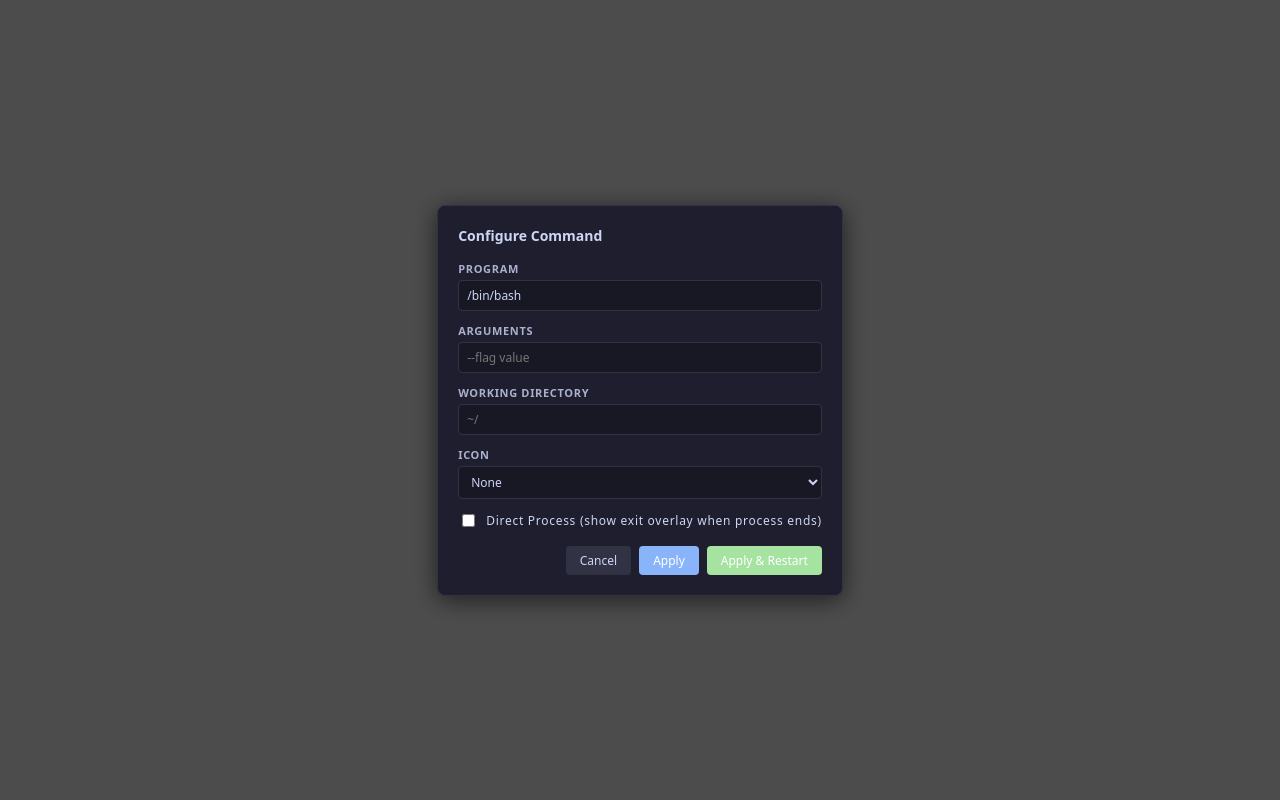
ConfigureCommandDialog's Apply & Restart (#815) › says why the restart failed, in the hub's words
Click the button with class "btn-accent" at (764,560), box [707,546,822,574]
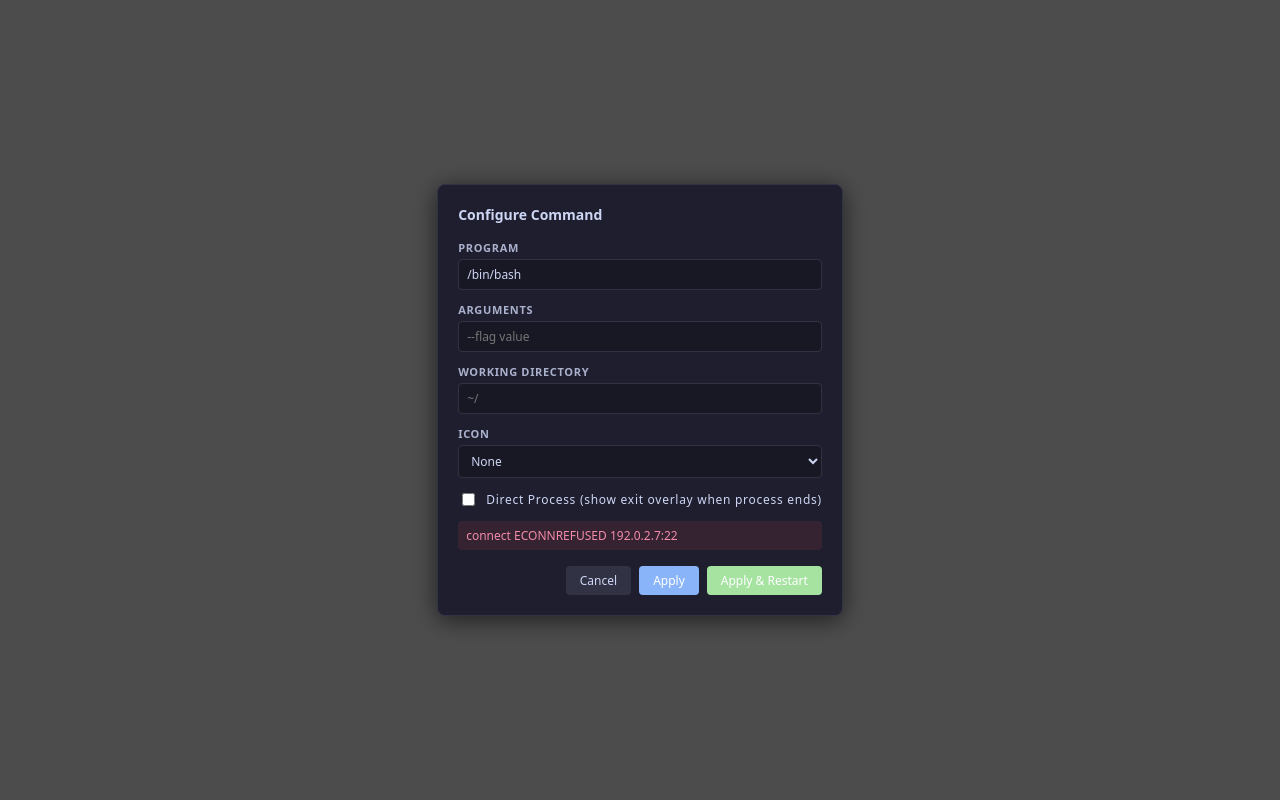
Now the text with class "field-error" reads "connect ECONNREFUSED 192.0.2.7:22", box [466,527,678,544]
